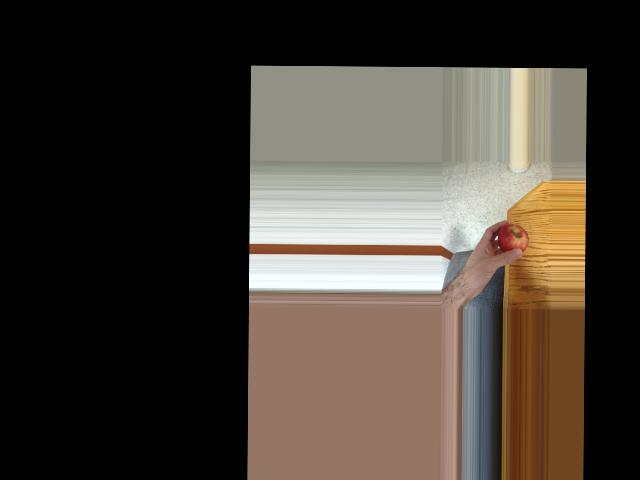apple: (496, 222, 527, 255)
